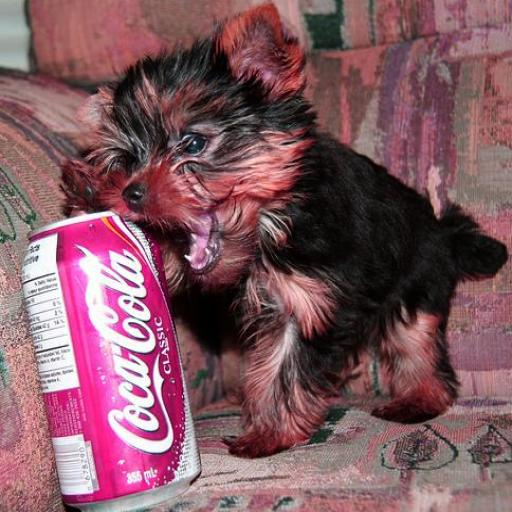dog_face: (90, 30, 276, 273)
